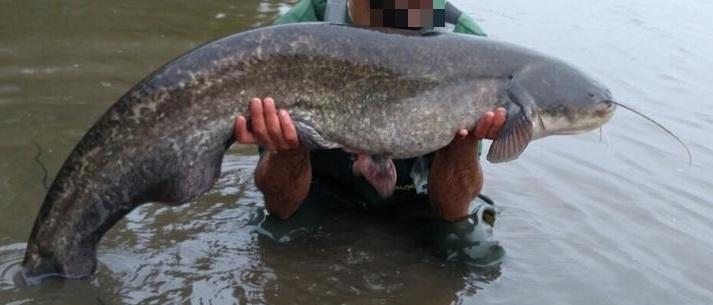Catfish: (19, 20, 623, 305)
